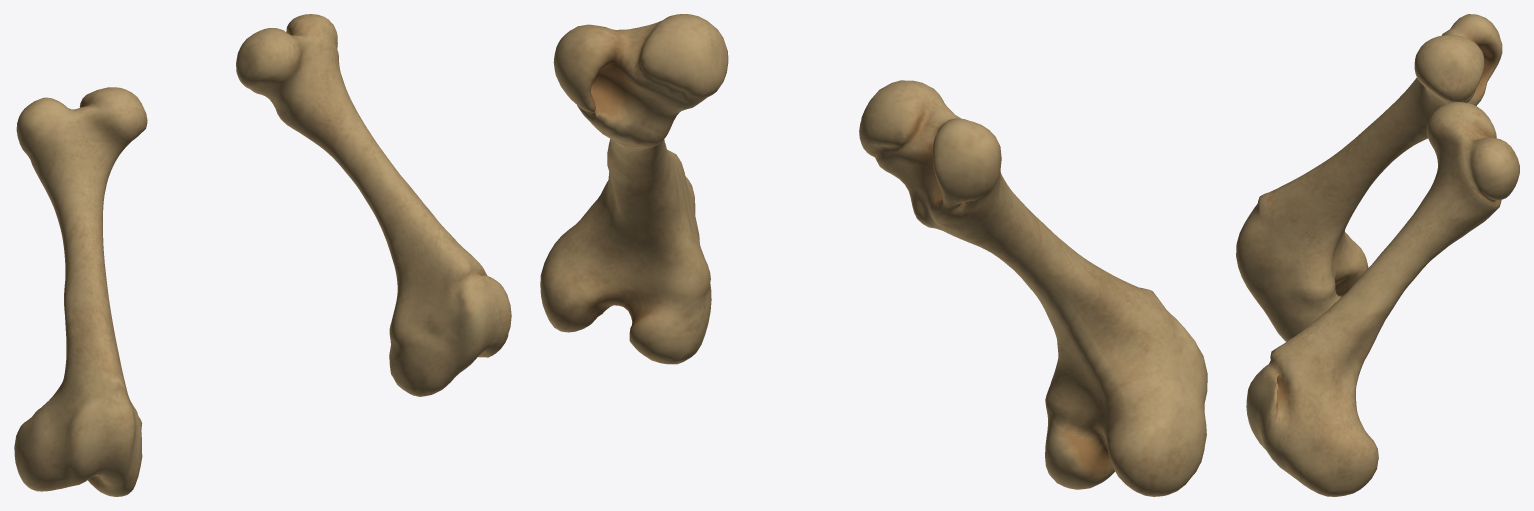
File: Femur.glb
The picture shows the model from 3 angles, left to right: view 1: azimuth 30°, elevation 25°; view 2: azimuth 150°, elevation 25°; view 3: azimuth 270°, elevation 25°; orthographic projection. The views are drawn at different scales.
Visible parts, largest first — view 1: Group42281.001; view 2: Group42281.001; view 3: Group42281.001.
Part boxes in pixels (x1=…): Group42281.001: x1=14, y1=14, x2=511, y2=496; Group42281.001: x1=540, y1=14, x2=1207, y2=496; Group42281.001: x1=1236, y1=14, x2=1519, y2=496.
Size of the model in its own units: 342 by 238 by 171.
Materials: 1 (1 with a texture image).
